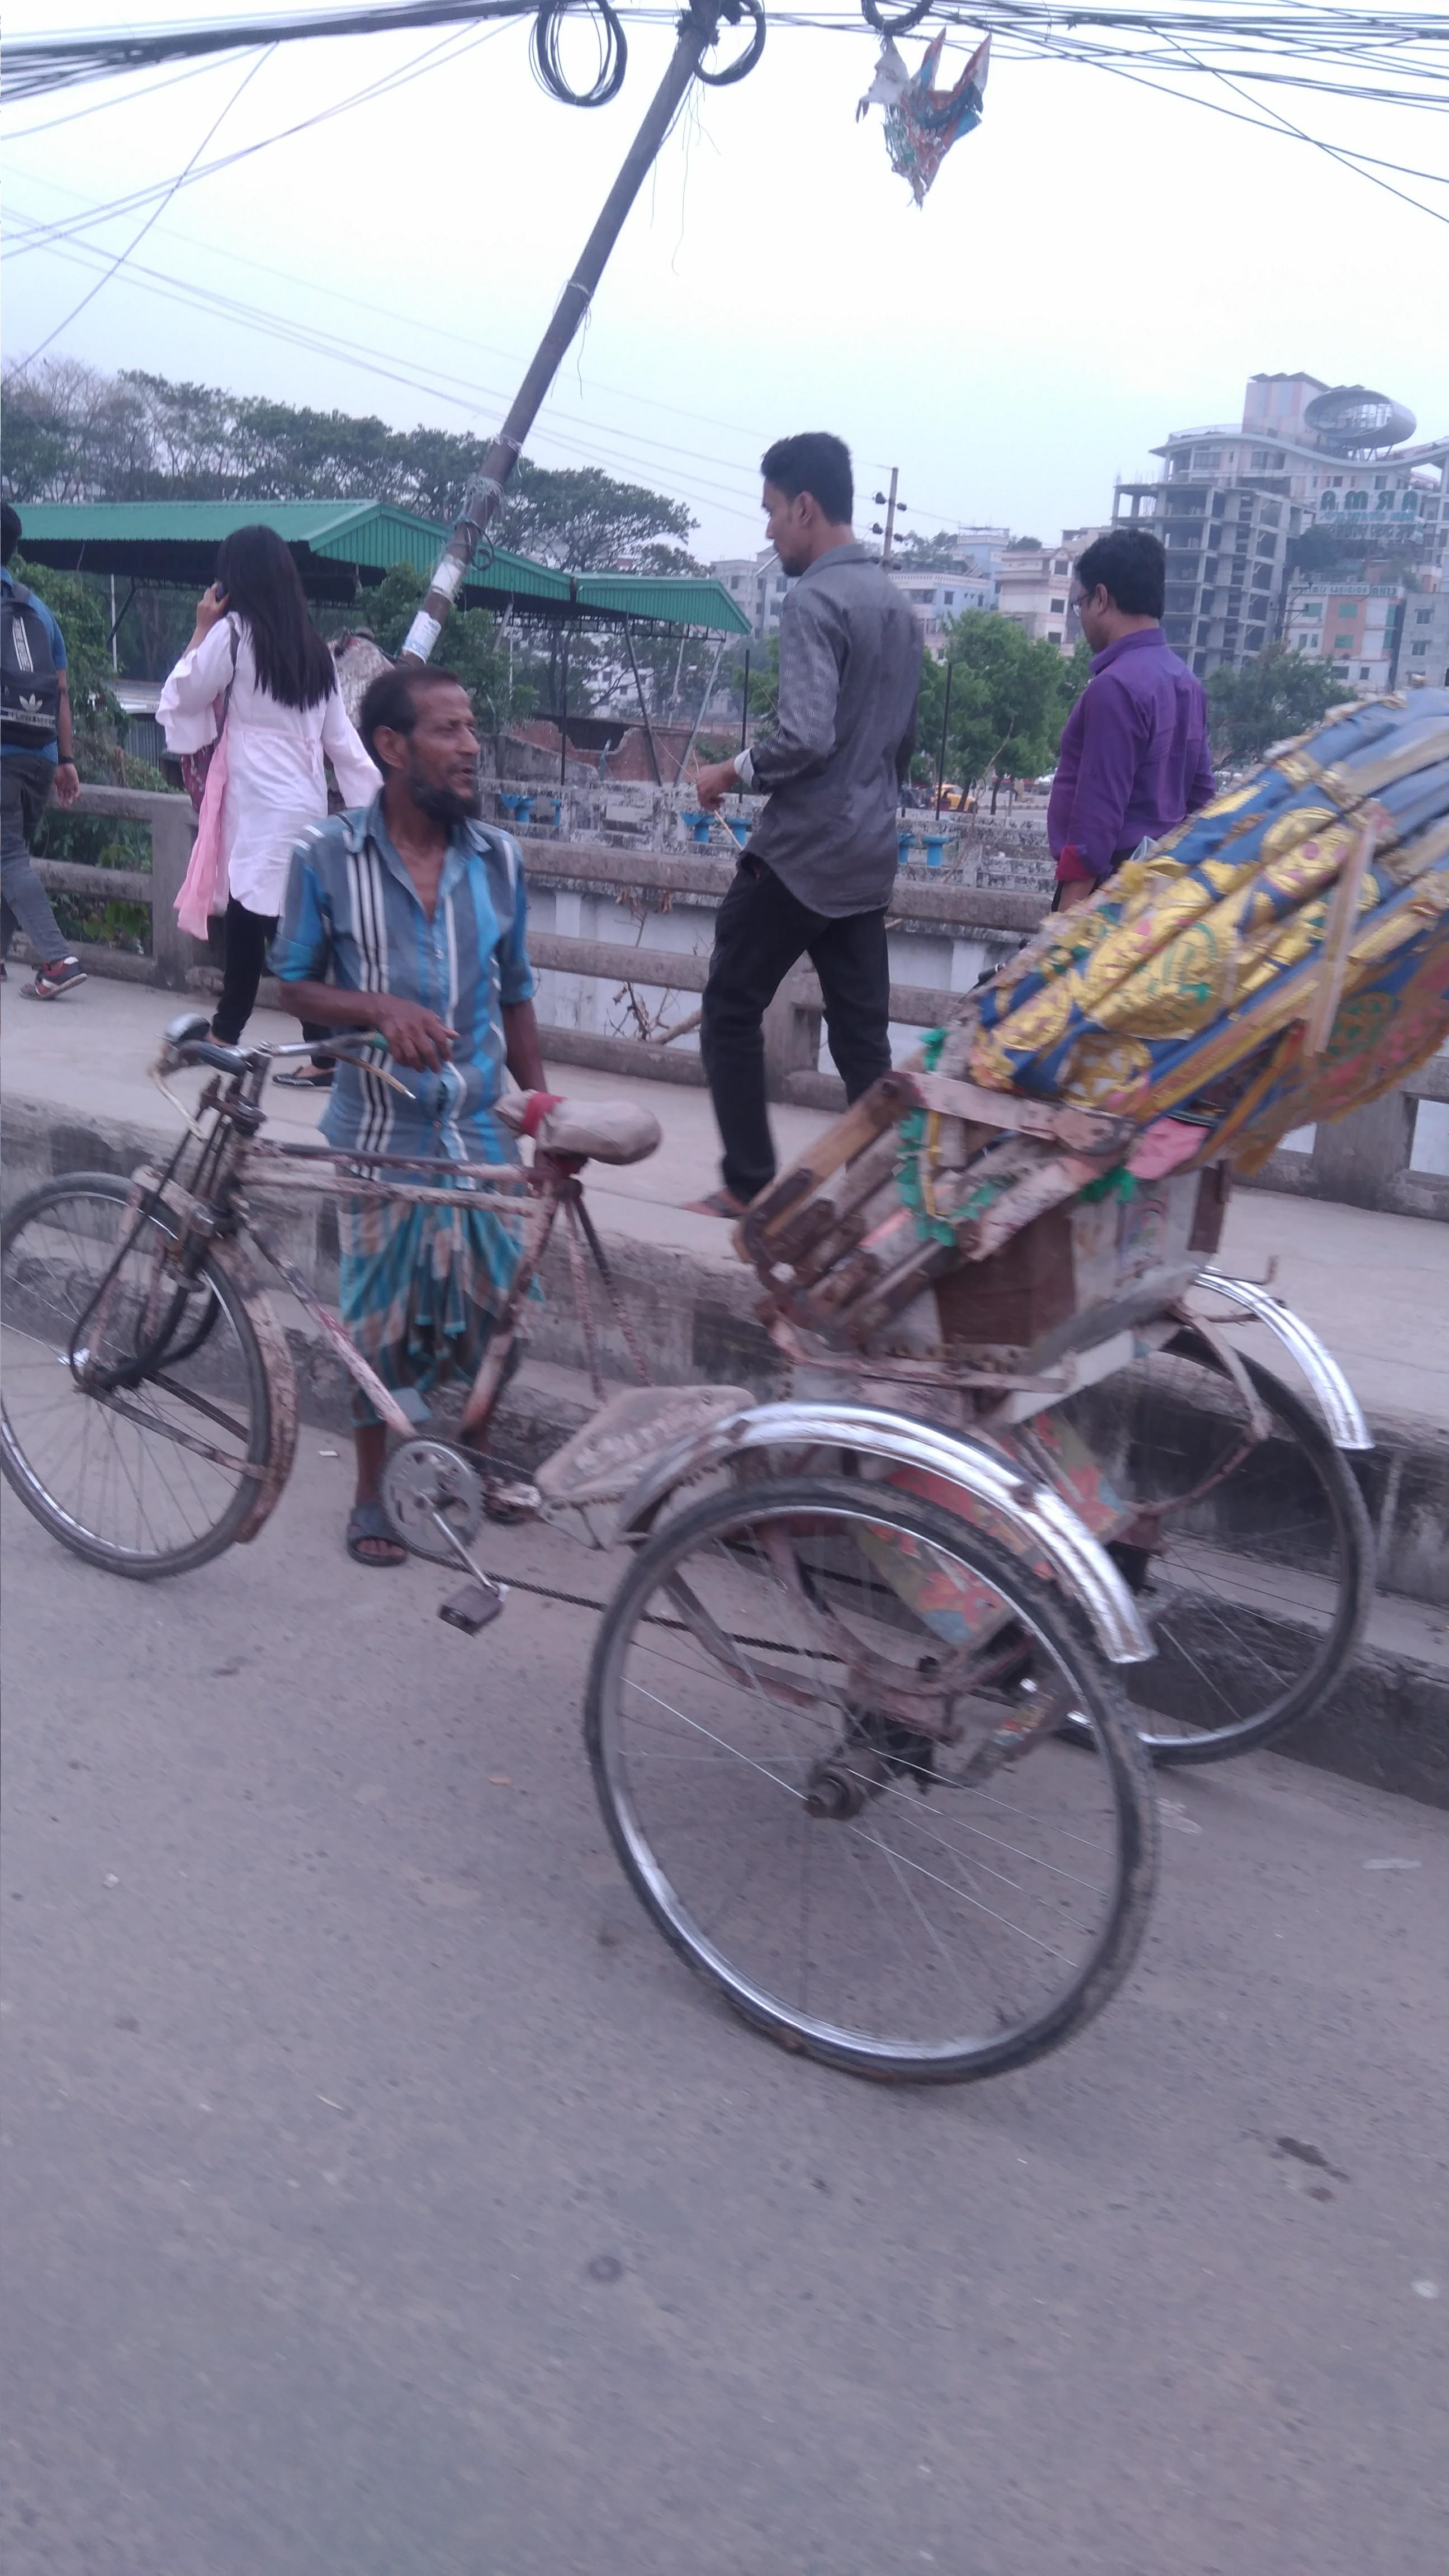Rickshaw: (23, 605, 1440, 2065)
